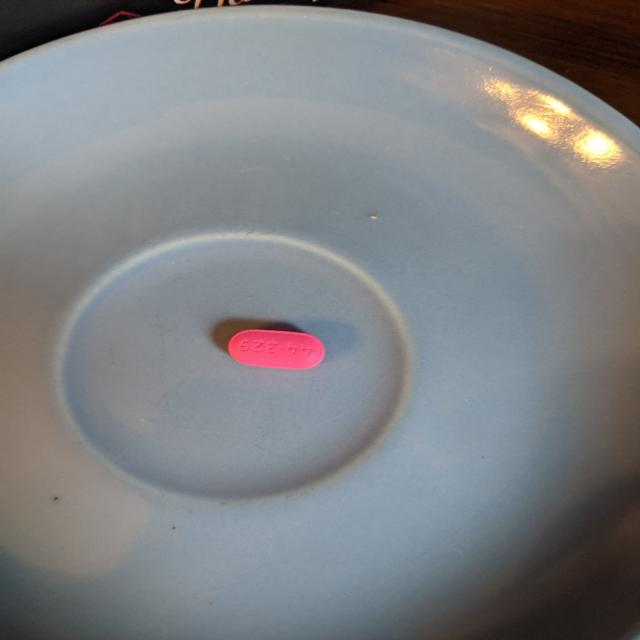non-organic waste: (227, 328, 327, 370)
